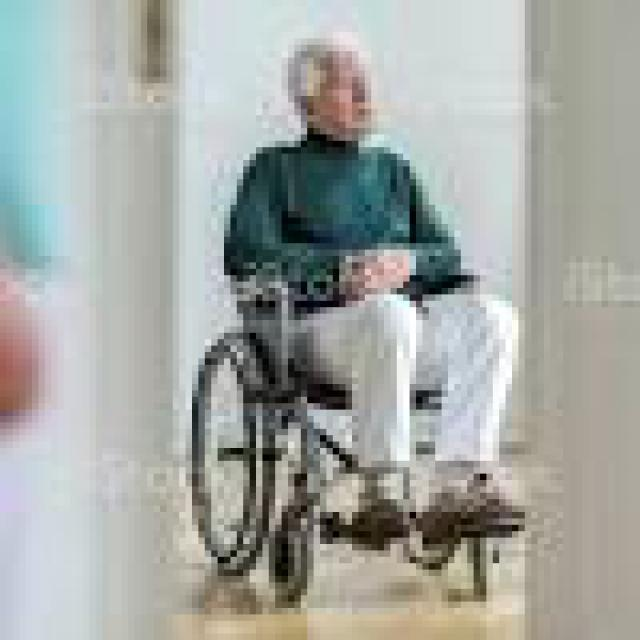wheelchairs: (166, 250, 512, 628)
